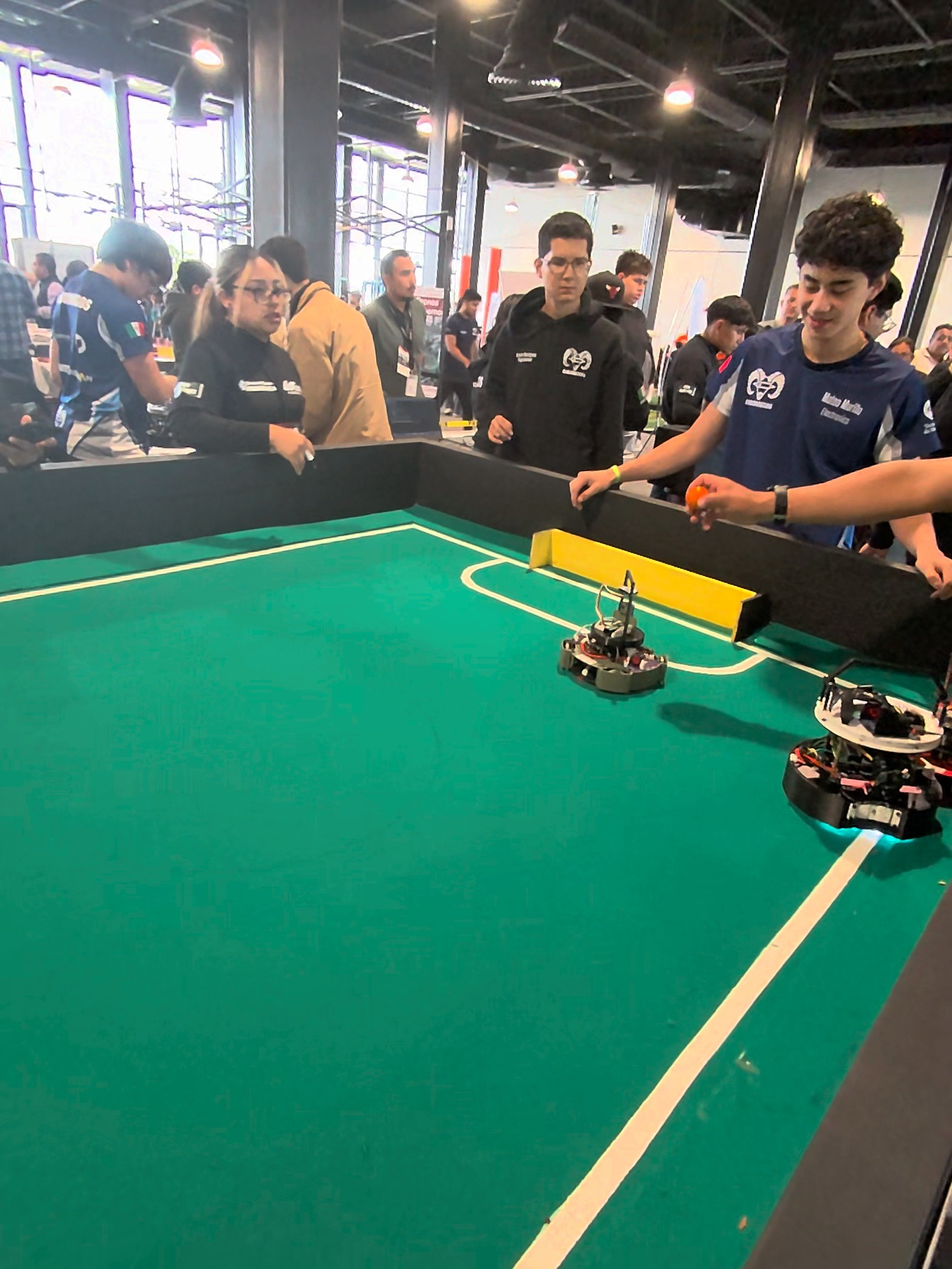Robot: (782, 645, 947, 849), (561, 562, 664, 694)
